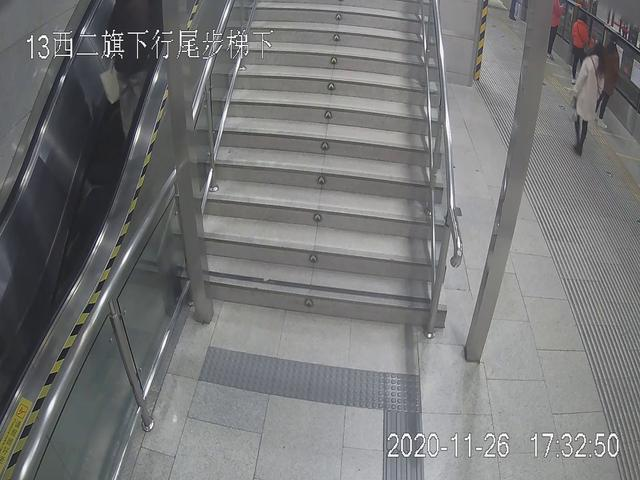person: (572, 46, 610, 155), (565, 16, 595, 80)
